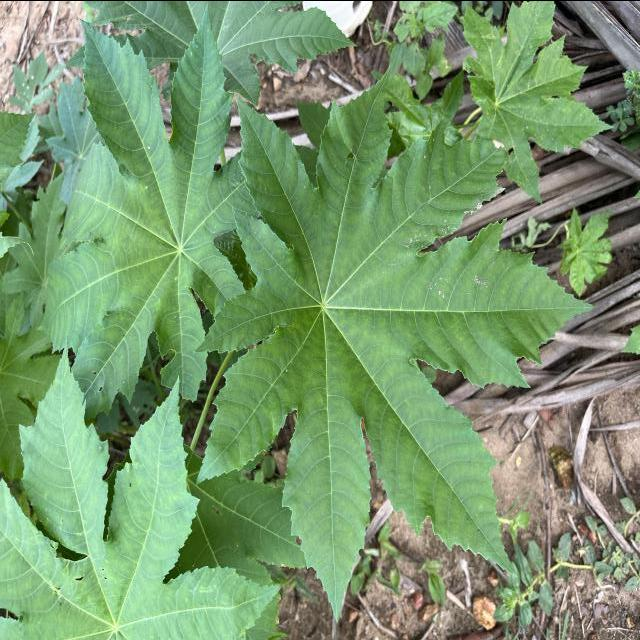Ricinus communis linn: (188, 59, 602, 630)
